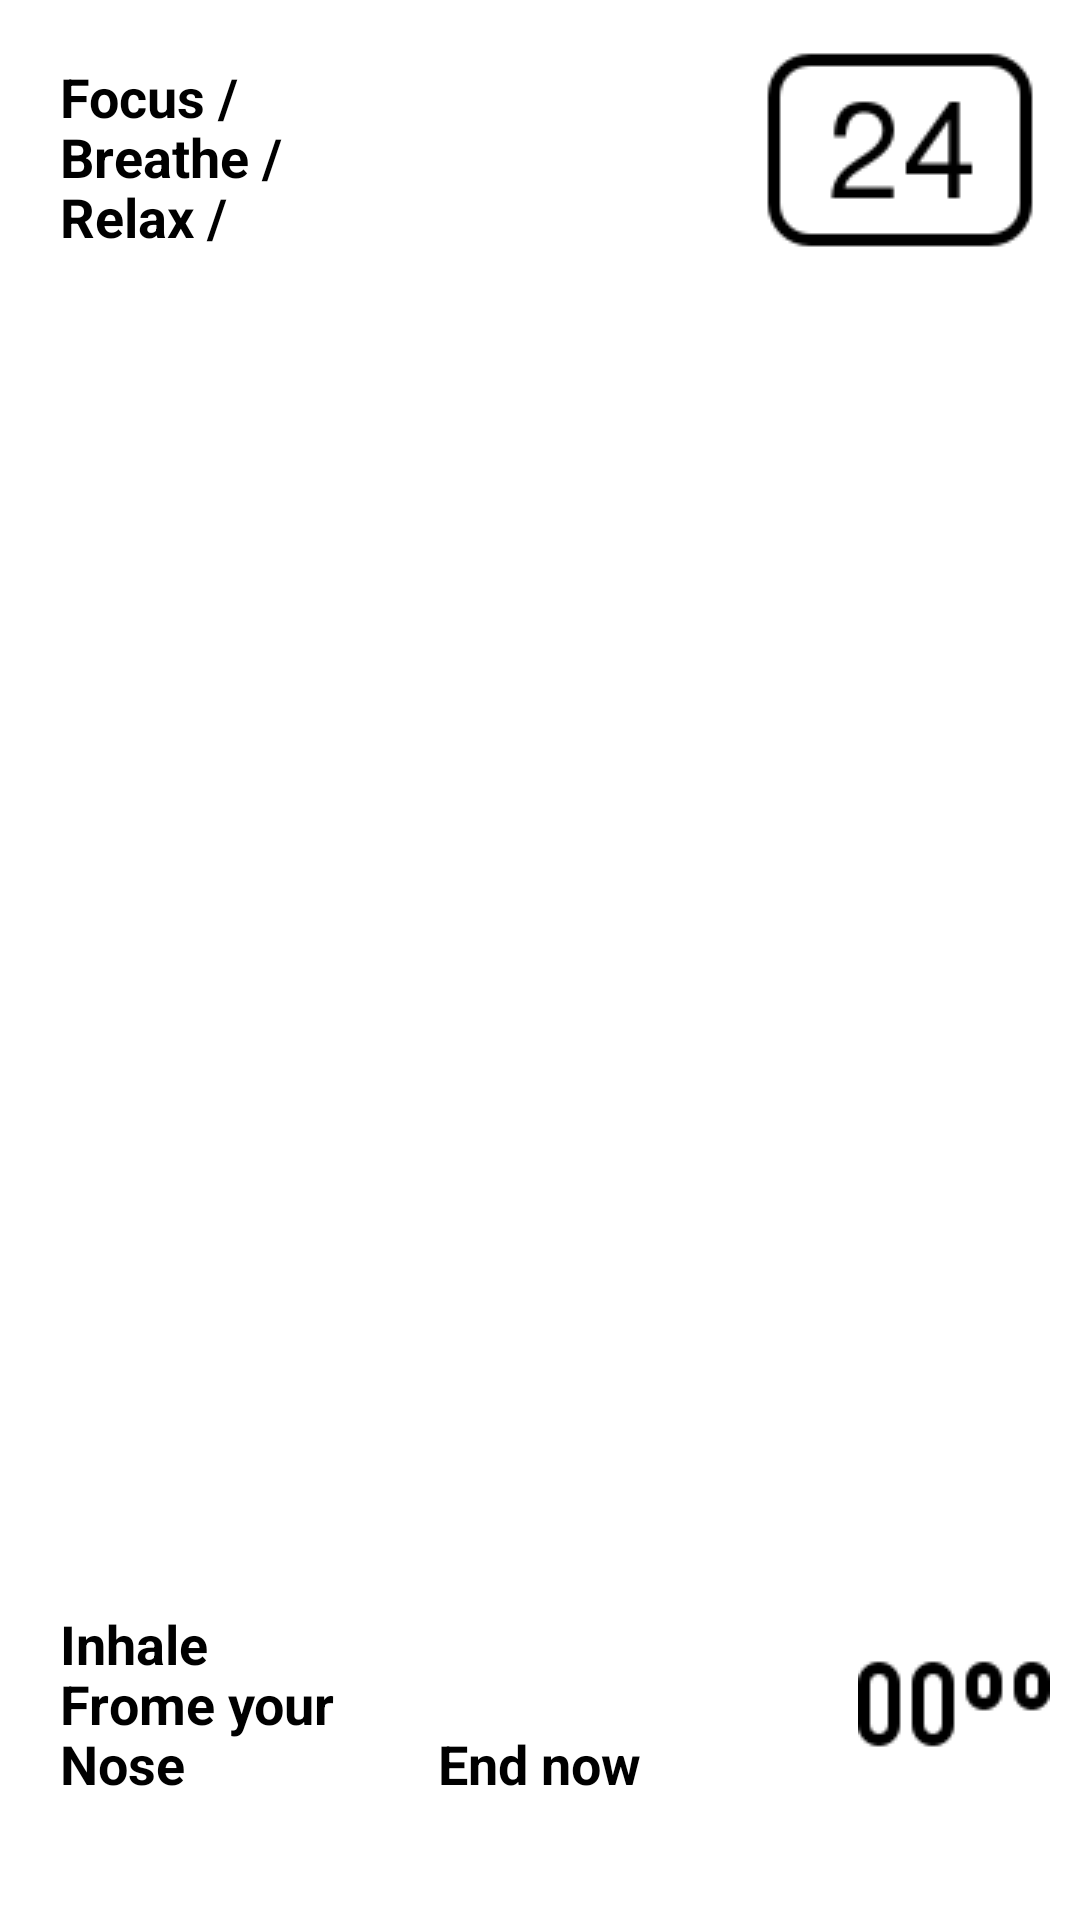

Where icons sit on this 1080px×1920px app screen, as (x1, y1, x2, y2):
icononumerico: (767, 53, 1033, 247)
